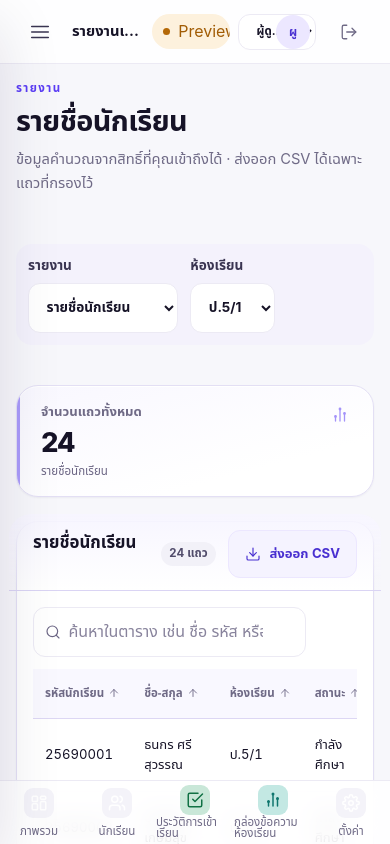
a report on screen › draws one bar per category with the value beside it
Check: the row "25690001 ธนกร ศรีสุวรรณ ป.5/1 กำลังศึกษา ดูรายละเอียด" is shown, box [33,719,357,792]
Select "สรุปการเข้าเรียน" in the dropdown labelled "รายงาน" at [103, 308], box [28,283,178,333]
(page scrolled)
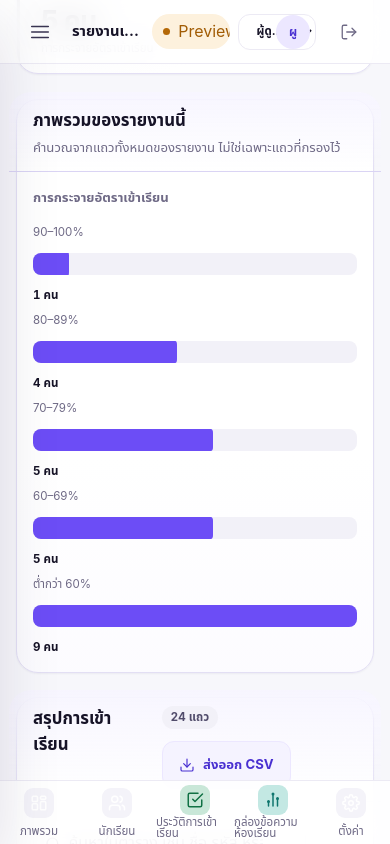
Check: the element with class "report-chart" is shown, box [33,188,357,656]
Check: the number of elements with class "report-chart-value" is 5, box [33,287,58,304]; [33,375,58,392]; [33,463,58,480]; [33,551,58,568]; [33,639,58,656]
